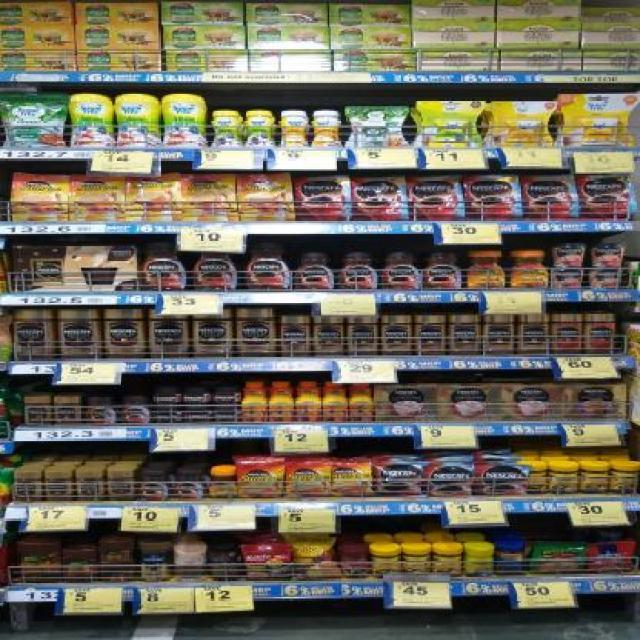Coffee: (11, 173, 69, 220), (70, 173, 126, 220), (182, 174, 236, 222), (465, 175, 521, 221), (582, 174, 639, 218), (128, 173, 180, 221), (238, 175, 292, 221), (408, 175, 462, 221), (354, 177, 408, 221), (296, 176, 349, 220), (525, 175, 577, 219), (246, 243, 292, 292), (193, 243, 239, 291), (140, 243, 186, 290), (195, 308, 235, 358), (13, 310, 53, 360), (60, 310, 100, 359), (151, 309, 190, 358), (105, 309, 143, 359), (237, 309, 274, 357), (475, 463, 527, 495), (375, 462, 423, 496), (337, 253, 379, 291), (424, 465, 473, 497), (382, 252, 422, 290), (238, 464, 282, 498), (510, 250, 548, 289), (467, 251, 505, 289), (424, 252, 462, 290), (296, 253, 334, 291), (285, 463, 327, 497), (332, 464, 374, 498), (517, 314, 549, 355), (312, 315, 344, 356), (380, 316, 412, 357), (281, 316, 312, 357), (416, 316, 447, 356), (347, 316, 378, 355), (450, 316, 481, 355), (484, 316, 514, 356), (323, 381, 347, 422), (85, 396, 117, 426), (172, 471, 206, 499), (138, 471, 171, 499), (120, 397, 151, 426), (207, 470, 239, 498), (351, 381, 372, 423), (44, 472, 73, 501), (272, 382, 293, 422), (25, 397, 53, 427), (13, 473, 41, 502), (75, 472, 103, 501), (300, 381, 319, 423), (245, 381, 264, 422), (108, 471, 135, 499), (54, 396, 78, 425), (183, 387, 212, 405), (153, 407, 181, 424), (215, 387, 241, 405), (154, 388, 181, 405), (185, 408, 212, 424), (216, 408, 239, 424)
